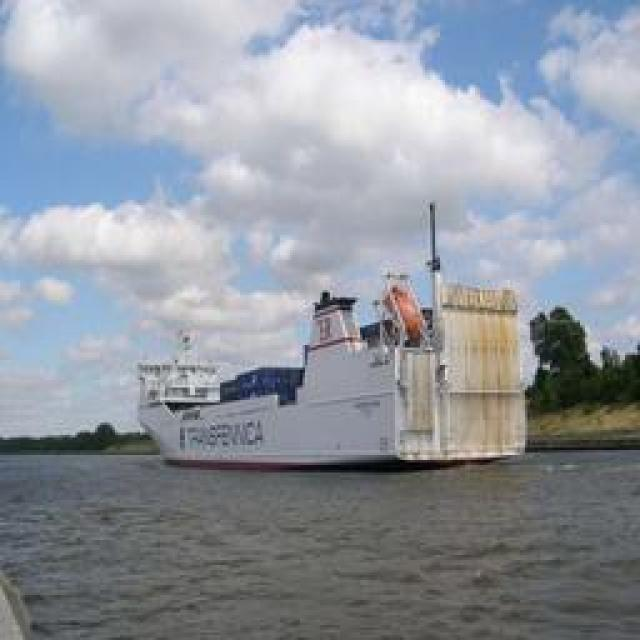CIV_Ship: (137, 268, 535, 476)
